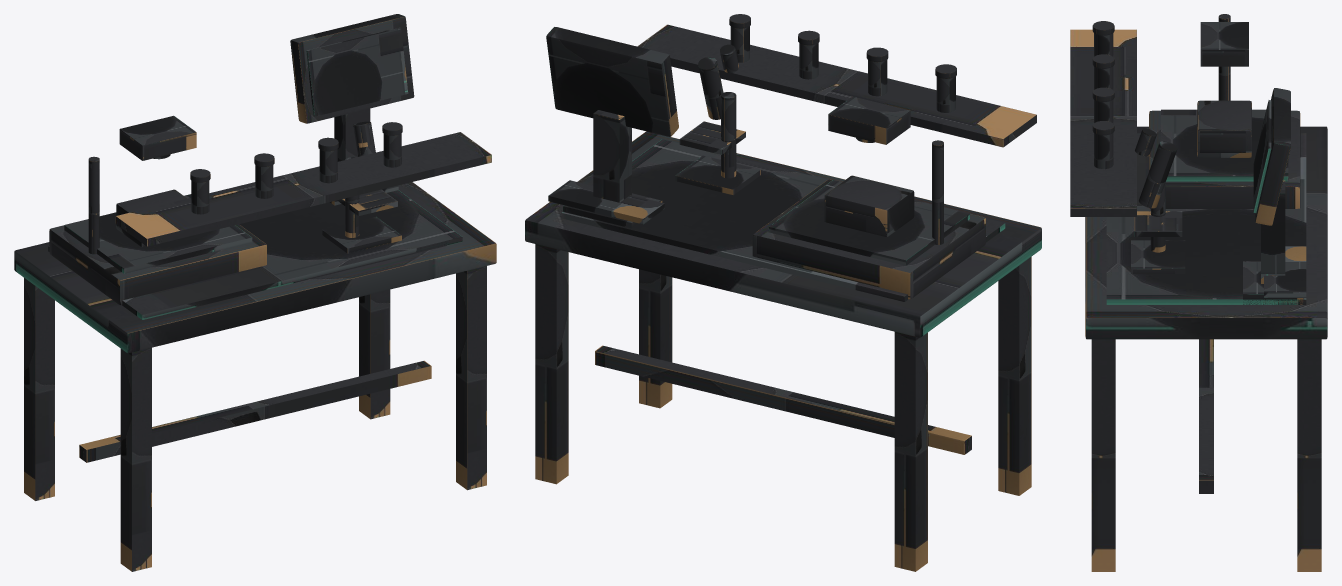
File: DD_research_table.glb
3 renders of one model, left to right at view 1: azimuth 30°, elevation 25°; view 2: azimuth 150°, elevation 25°; view 3: azimuth 270°, elevation 25°, orthographic. The views are drawn at different scales.
Visible parts, largest first — view 1: DD_research_table; view 2: DD_research_table; view 3: DD_research_table.
Part boxes in pixels (bbox=[...]): DD_research_table: bbox=[14, 14, 496, 571]; DD_research_table: bbox=[525, 14, 1041, 571]; DD_research_table: bbox=[1070, 14, 1327, 571].
Bounding box in the file's own units: 1.5 × 1.57 × 0.85.
1 material, 1 textured.
